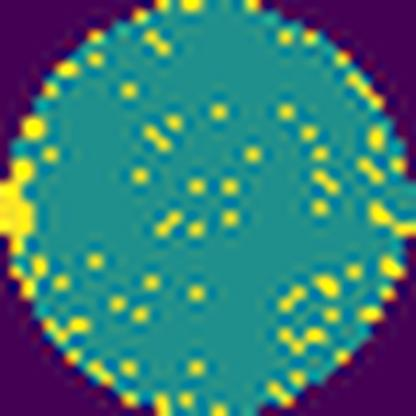Edge-Loc: (0, 157, 45, 263)
